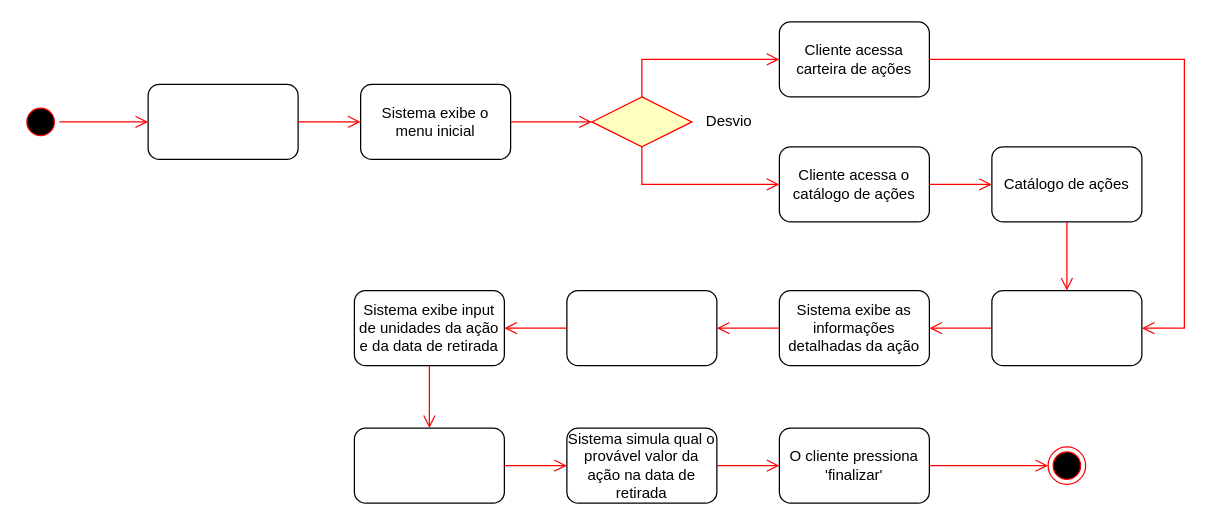
The diagram is 1219 pixels wide and 525 high, and some of its shapes have lost their labels. The shapes that lost their labels are listed below. From the top down, each one's centre as x and y in pixels, then its label:
At point (222, 121): "Cliente realiza o login no sistema".
At point (641, 327): "Cliente pressiona o botão 'simulação'".
At point (1066, 327): "Cliente seleciona a ação de seu interesse".
At point (428, 465): "Cliente preenche a quantidade de unidades da ação e a data de retirada".
